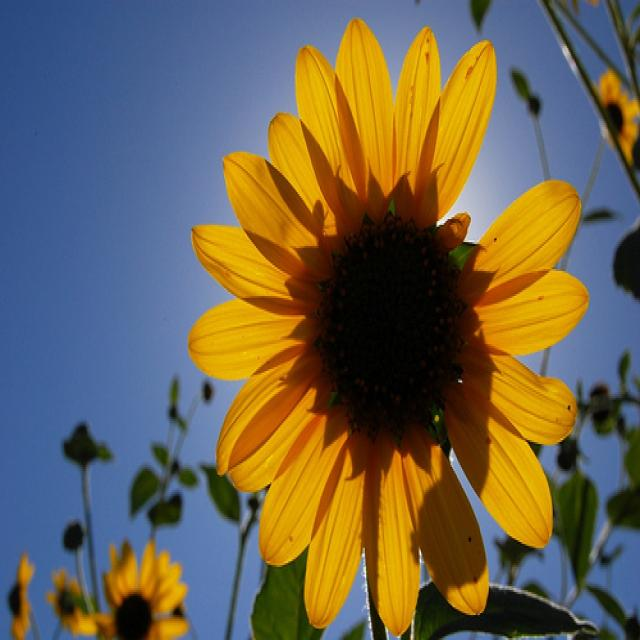sunflower: (185, 12, 591, 636), (92, 544, 183, 640), (0, 542, 38, 640)
